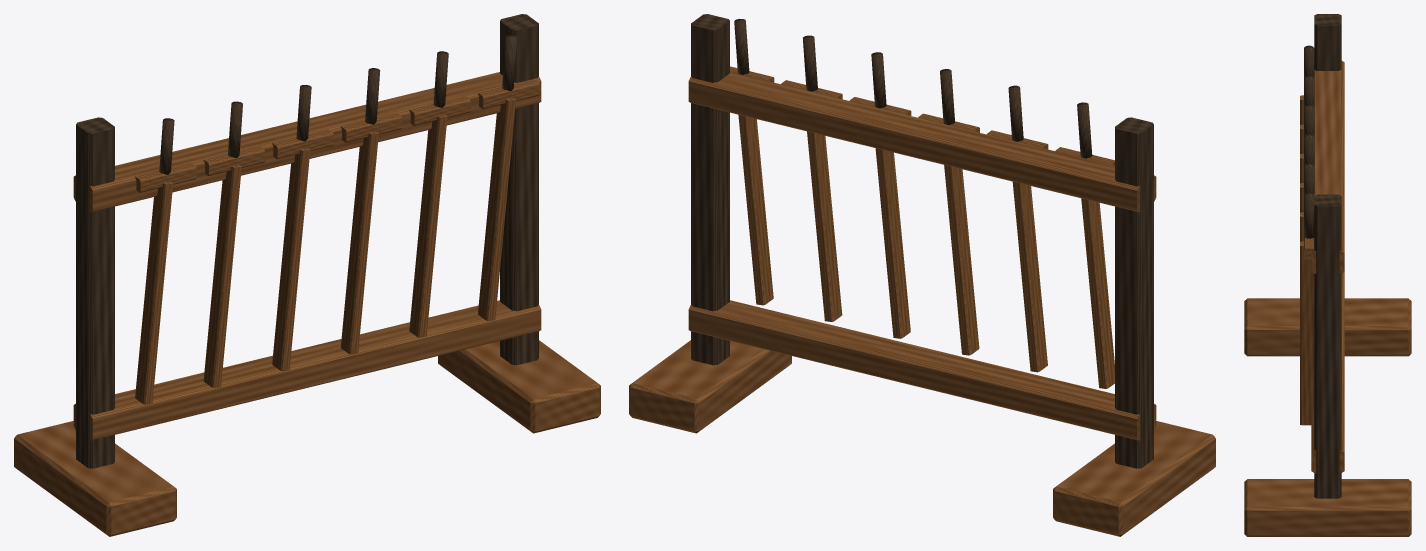
Rendered from training_weapon_rack.glb.
The picture shows the model from 3 angles, left to right: view 1: azimuth 30°, elevation 25°; view 2: azimuth 150°, elevation 25°; view 3: azimuth 270°, elevation 25°; orthographic projection. The views are drawn at different scales.
Parts seen in each view (by area): view 1: training_weapon_rack_Joinery; view 2: training_weapon_rack_Joinery; view 3: training_weapon_rack_Joinery.
Part boxes in pixels (bbox=[...]): training_weapon_rack_Joinery: bbox=[14, 14, 600, 536]; training_weapon_rack_Joinery: bbox=[629, 14, 1215, 536]; training_weapon_rack_Joinery: bbox=[1244, 14, 1411, 536].
Size of the model in its own units: 2.38 by 1.7 by 0.8.
1 material, 1 textured.
